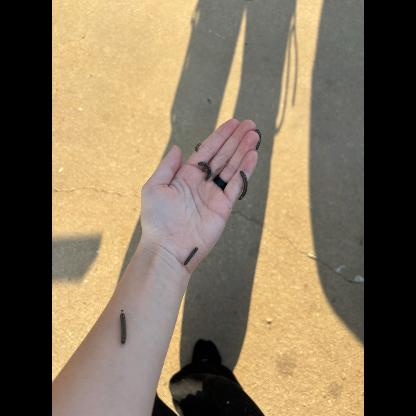Fall Armyworm Larvae: (236, 169, 250, 201), (197, 160, 213, 182), (119, 312, 129, 346), (183, 246, 199, 266), (254, 128, 262, 152), (193, 142, 202, 152)
